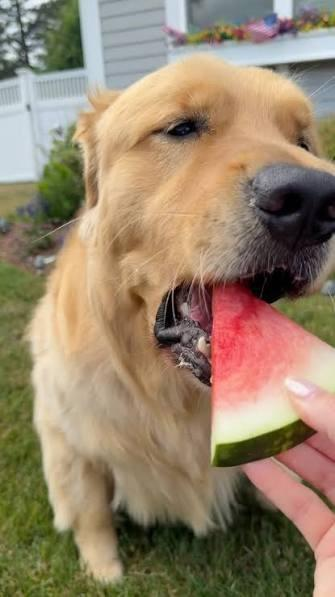adult_dog: (22, 56, 335, 584)
